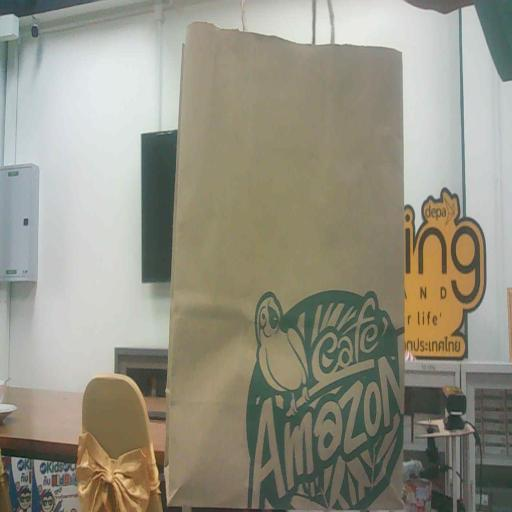bag: (159, 10, 411, 512)
